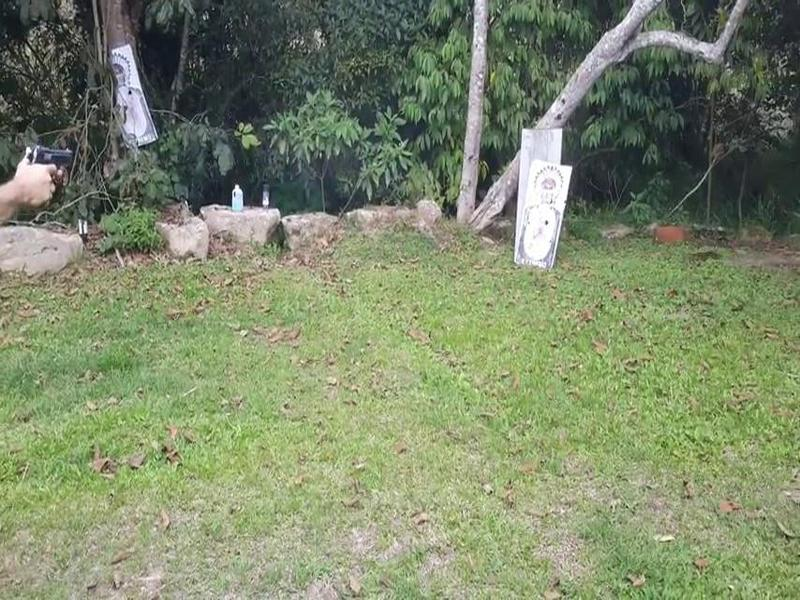Pistola: (18, 137, 81, 197)
